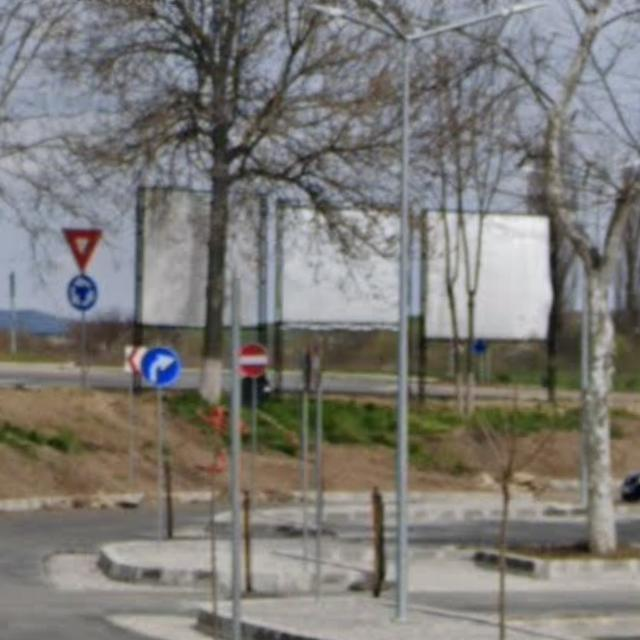prio_give_way: (61, 227, 103, 273)
